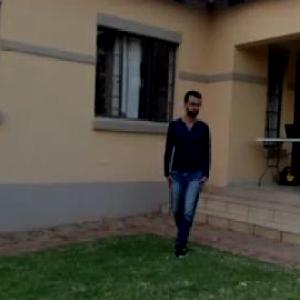follow: (163, 83, 214, 261)
